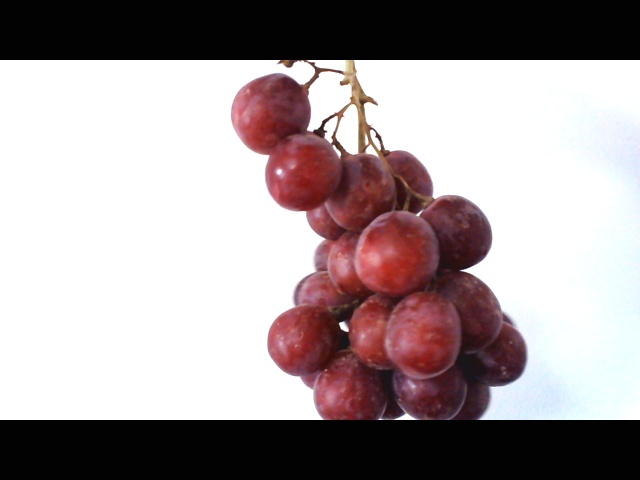grape: (229, 73, 520, 416)
